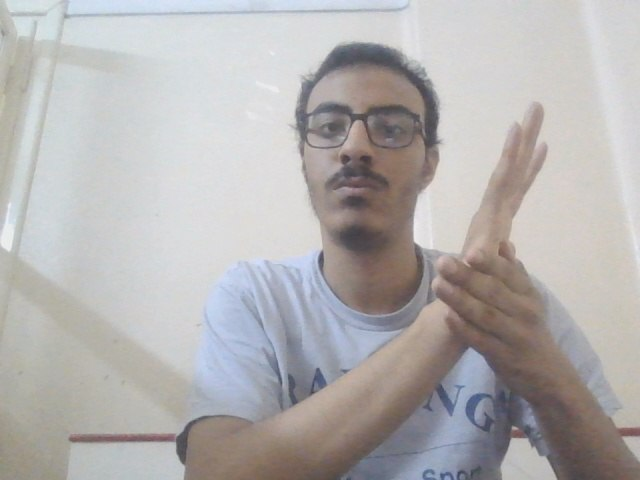Movie: (426, 92, 583, 384)
